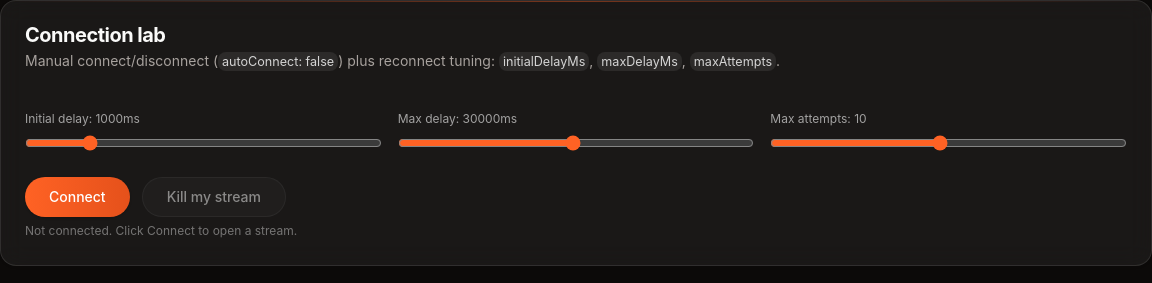
Test case: ConnectionLabPage › drops the stream and shows the result
Expected: the button "Kill my stream" is disabled, left=142, top=177, right=286, bottom=217
Click the button "Connect".
click(77, 197)  # box left=25, top=177, right=130, bottom=217
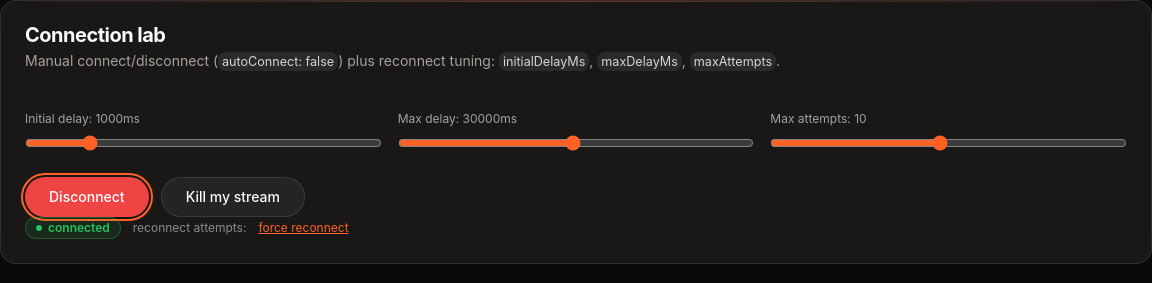
Click the button "Kill my stream".
click(233, 197)  # box left=161, top=177, right=305, bottom=217
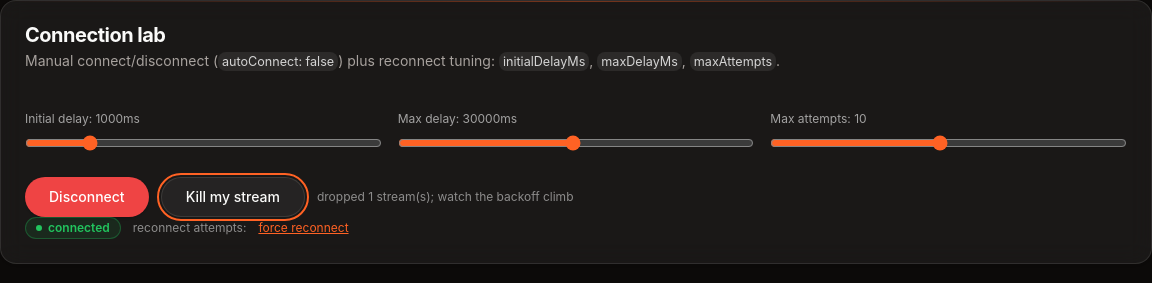
Now the text "dropped 1 stream(s); watch the backoff climb" is shown, box left=317, top=189, right=574, bottom=205
